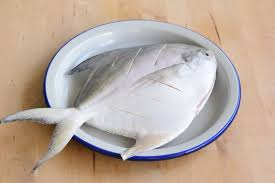Ikan Bawal: (12, 41, 218, 161)
